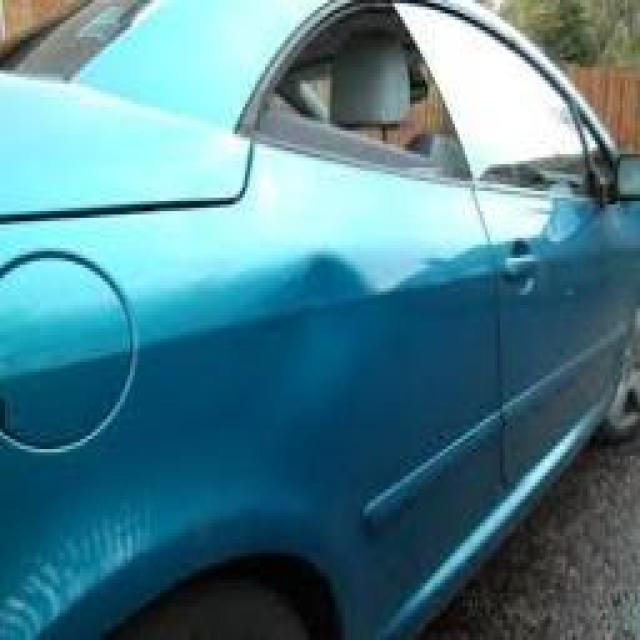Fender: (261, 242, 392, 466)
